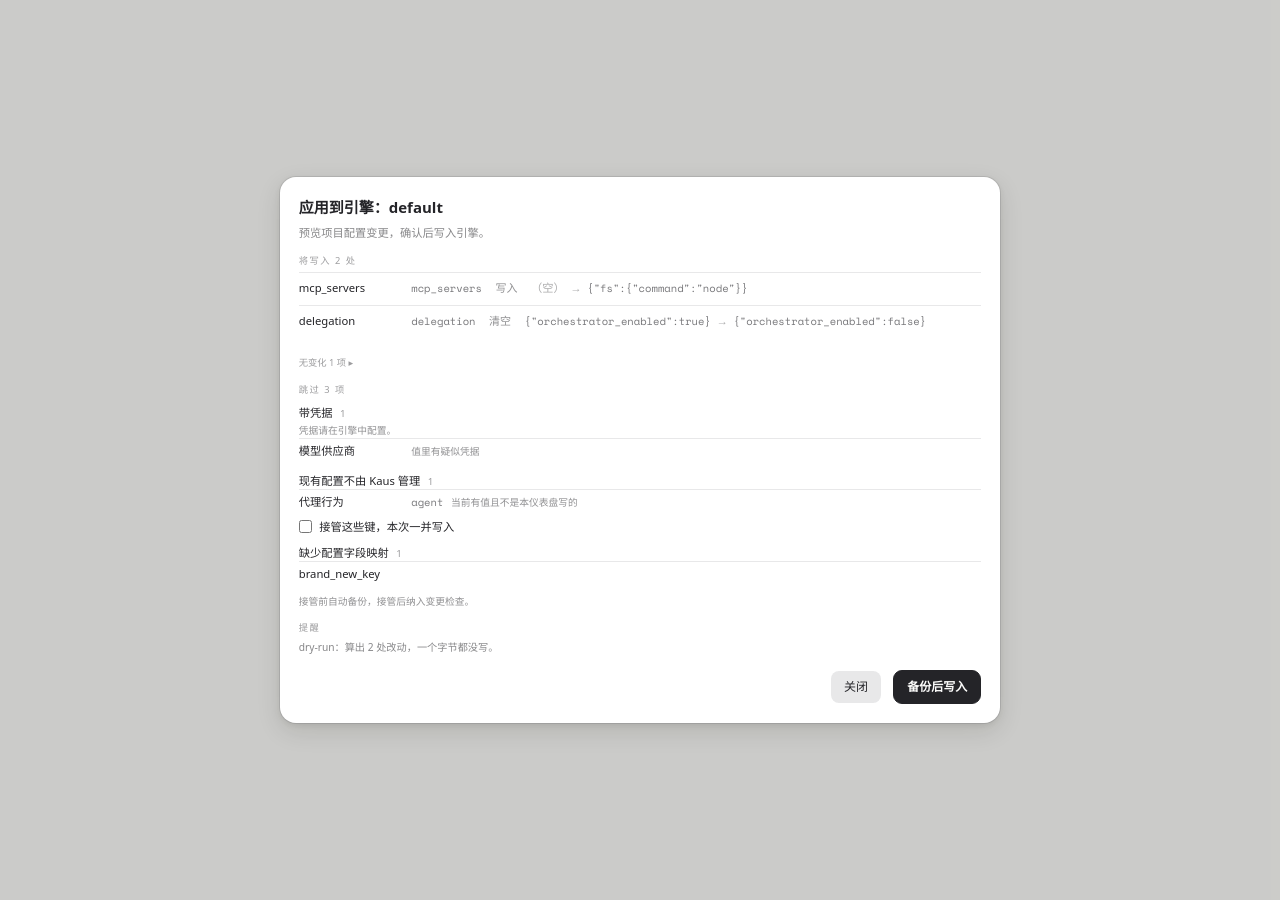
Test case: 确认写入 › 409 binding_busy：红条说出会话条数 + 「重试」
Check: the number of elements with test id "materialize-row" is 2, box [299, 272, 981, 305]; [299, 305, 981, 337]
Click the button "备份后写入".
click(937, 687)  # box [893, 670, 981, 704]
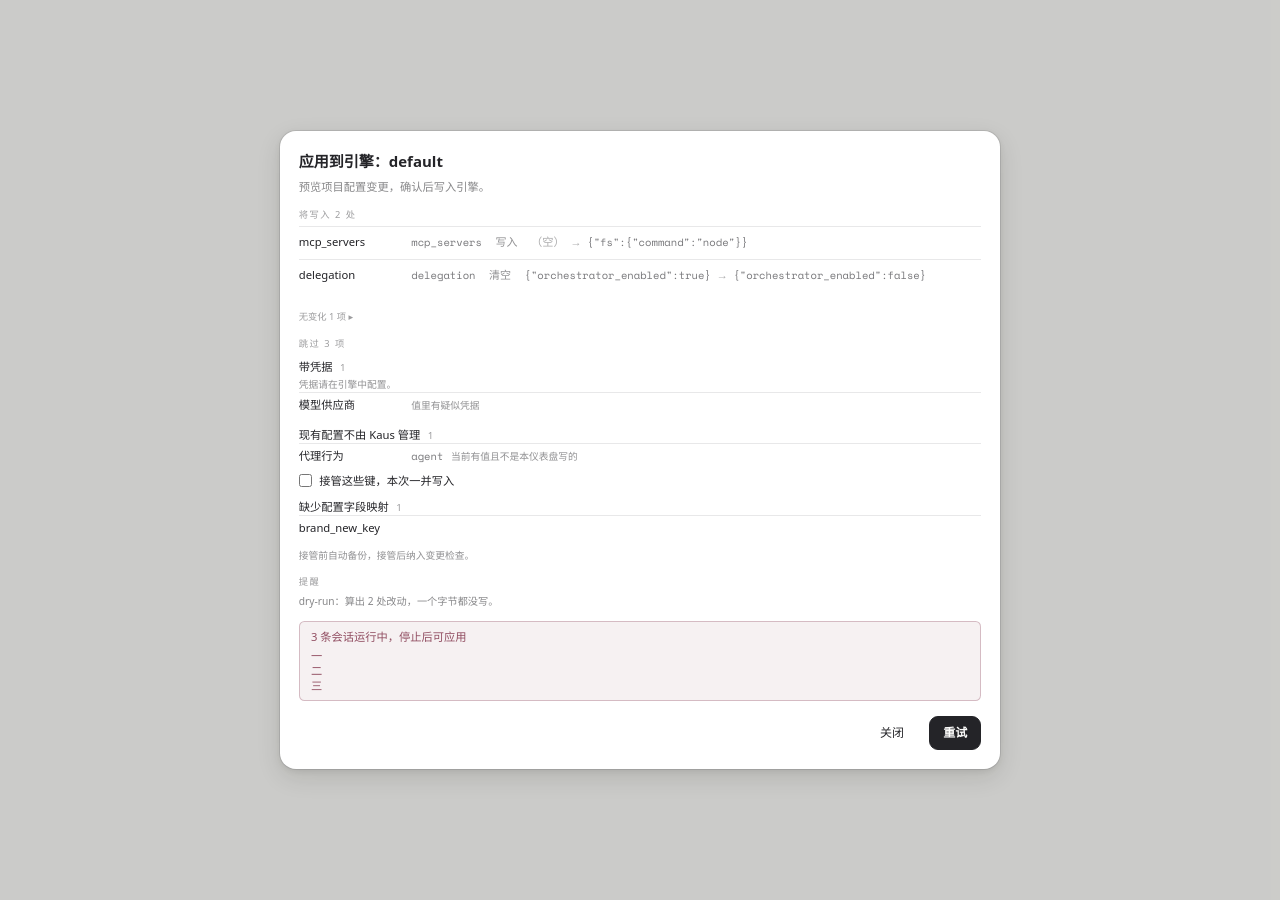
Check: the button "重试" is enabled, box [929, 716, 981, 750]
Check: the element with test id "materialize-busy" shows "3 条会话运行中，停止后可应用", box [311, 629, 467, 644]
Check: the list with test id "materialize-busy-list" reads "一 二 三", box [311, 648, 322, 693]
